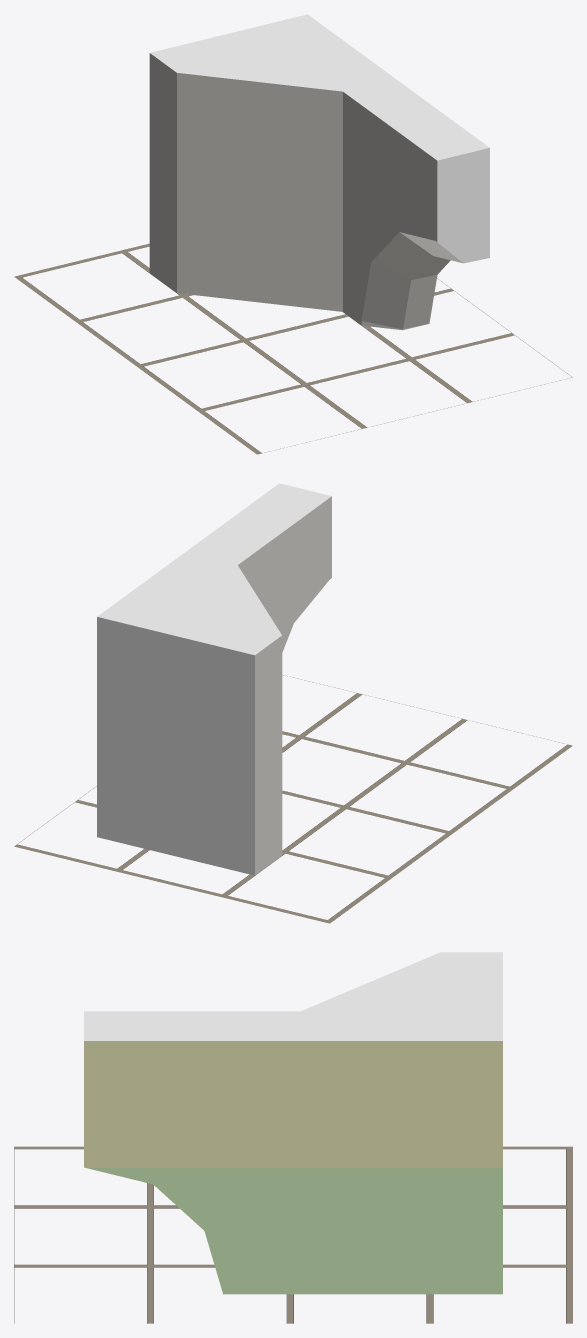
The model's file is Cave_Edge_Esse_Top_3x4.glb.
3 views of the same model, one above another, from view 1: azimuth 30°, elevation 25°; view 2: azimuth 150°, elevation 25°; view 3: azimuth 270°, elevation 25° (orthographic). The views are drawn at different scales.
Visible parts, largest first — view 1: Cave_Edge_Esse_Top_3x4, Floor; view 2: Cave_Edge_Esse_Top_3x4, Floor; view 3: Cave_Edge_Esse_Top_3x4, Floor.
Boxes of the visible parts, x1,y1,x2,y2 form: Cave_Edge_Esse_Top_3x4: (149,14,489,330); Floor: (14,243,572,454); Cave_Edge_Esse_Top_3x4: (97,483,331,875); Floor: (14,675,572,923); Cave_Edge_Esse_Top_3x4: (84,952,502,1294); Floor: (14,1146,572,1323).
Size of the model in its own units: 300 by 200 by 400.
5 materials, 1 textured.
